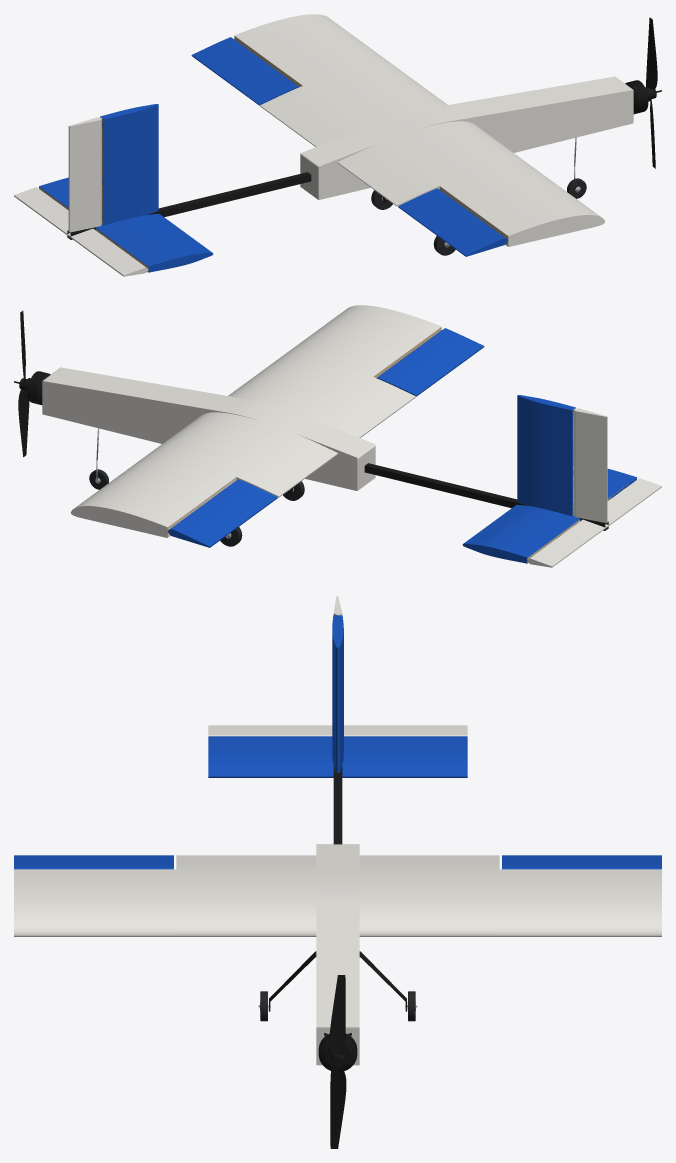
The model's file is airframe.glb.
3 renders of one model, top to bottom at view 1: azimuth 30°, elevation 25°; view 2: azimuth 150°, elevation 25°; view 3: azimuth 270°, elevation 25°, orthographic. The views are drawn at different scales.
Visible parts, largest first — view 1: film-wing-right-inner-wrap, film-wing-left-inner-wrap, film-fuselage-body-cap-1, film-fuselage-body-wrap, film-wing-left-outer-wrap, film-wing-right-outer-wrap, film-vertical-tail-fixed-wrap, film-rudder-control-wrap, film-flaperon-right-control-wrap, film-flaperon-left-control-wrap, film-horizontal-tail-right-fixed-wrap, cad-43-CF_Tube_20x20mm-v5 (+7 smaller); view 2: film-wing-left-inner-wrap, film-wing-right-inner-wrap, film-fuselage-body-cap-0, film-wing-left-outer-wrap, film-fuselage-body-wrap, film-wing-right-outer-wrap, film-vertical-tail-fixed-wrap, film-rudder-control-wrap, film-flaperon-right-control-wrap, film-flaperon-left-control-wrap, film-horizontal-tail-left-fixed-wrap, cad-43-CF_Tube_20x20mm-v5 (+7 smaller); view 3: film-wing-left-inner-wrap, film-wing-right-inner-wrap, film-wing-right-outer-wrap, film-wing-left-outer-wrap, film-fuselage-body-wrap, film-horizontal-tail-right-fixed-wrap, film-horizontal-tail-left-fixed-wrap, film-flaperon-right-control-wrap, film-flaperon-left-control-wrap, cad-77-17-Inch-Prop-v3, film-vertical-tail-fixed-wrap, film-elevator-right-control-wrap (+2 smaller).
Part boxes in pixels (left/top/right/bottom): film-wing-right-inner-wrap: left=337, top=121, right=531, bottom=206; film-wing-left-inner-wrap: left=260, top=64, right=447, bottom=146; film-fuselage-body-cap-1: left=318, top=90, right=633, bottom=199; film-fuselage-body-wrap: left=300, top=76, right=632, bottom=199; film-wing-left-outer-wrap: left=234, top=14, right=395, bottom=86; film-wing-right-outer-wrap: left=440, top=164, right=600, bottom=246; film-vertical-tail-fixed-wrap: left=100, top=105, right=158, bottom=225; film-rudder-control-wrap: left=68, top=118, right=101, bottom=232; film-flaperon-right-control-wrap: left=398, top=188, right=504, bottom=256; film-flaperon-left-control-wrap: left=191, top=37, right=298, bottom=105; film-horizontal-tail-right-fixed-wrap: left=96, top=213, right=211, bottom=272; cad-43-CF_Tube_20x20mm-v5: left=67, top=172, right=311, bottom=239; film-wing-left-inner-wrap: left=144, top=412, right=338, bottom=497; film-wing-right-inner-wrap: left=228, top=355, right=415, bottom=437; film-fuselage-body-cap-0: left=42, top=381, right=357, bottom=490; film-wing-left-outer-wrap: left=75, top=455, right=236, bottom=537; film-fuselage-body-wrap: left=43, top=367, right=375, bottom=490; film-wing-right-outer-wrap: left=280, top=305, right=441, bottom=377; film-vertical-tail-fixed-wrap: left=517, top=396, right=575, bottom=516; film-rudder-control-wrap: left=574, top=409, right=607, bottom=522; film-flaperon-right-control-wrap: left=377, top=328, right=484, bottom=396; film-flaperon-left-control-wrap: left=171, top=479, right=277, bottom=547; film-horizontal-tail-left-fixed-wrap: left=464, top=504, right=580, bottom=563; cad-43-CF_Tube_20x20mm-v5: left=364, top=463, right=608, bottom=530; film-wing-left-inner-wrap: left=338, top=855, right=499, bottom=936; film-wing-right-inner-wrap: left=176, top=855, right=337, bottom=936; film-wing-right-outer-wrap: left=14, top=869, right=176, bottom=936; film-wing-left-outer-wrap: left=499, top=869, right=661, bottom=936; film-fuselage-body-wrap: left=316, top=844, right=359, bottom=1065; film-horizontal-tail-right-fixed-wrap: left=208, top=736, right=333, bottom=777; film-horizontal-tail-left-fixed-wrap: left=342, top=736, right=467, bottom=777; film-flaperon-right-control-wrap: left=14, top=855, right=173, bottom=869; film-flaperon-left-control-wrap: left=502, top=855, right=661, bottom=869; cad-77-17-Inch-Prop-v3: left=329, top=975, right=346, bottom=1148; film-vertical-tail-fixed-wrap: left=332, top=629, right=343, bottom=772; film-elevator-right-control-wrap: left=208, top=725, right=332, bottom=736.
Bounding box in the file's own units: 1.87 × 0.5912 × 1.5.
